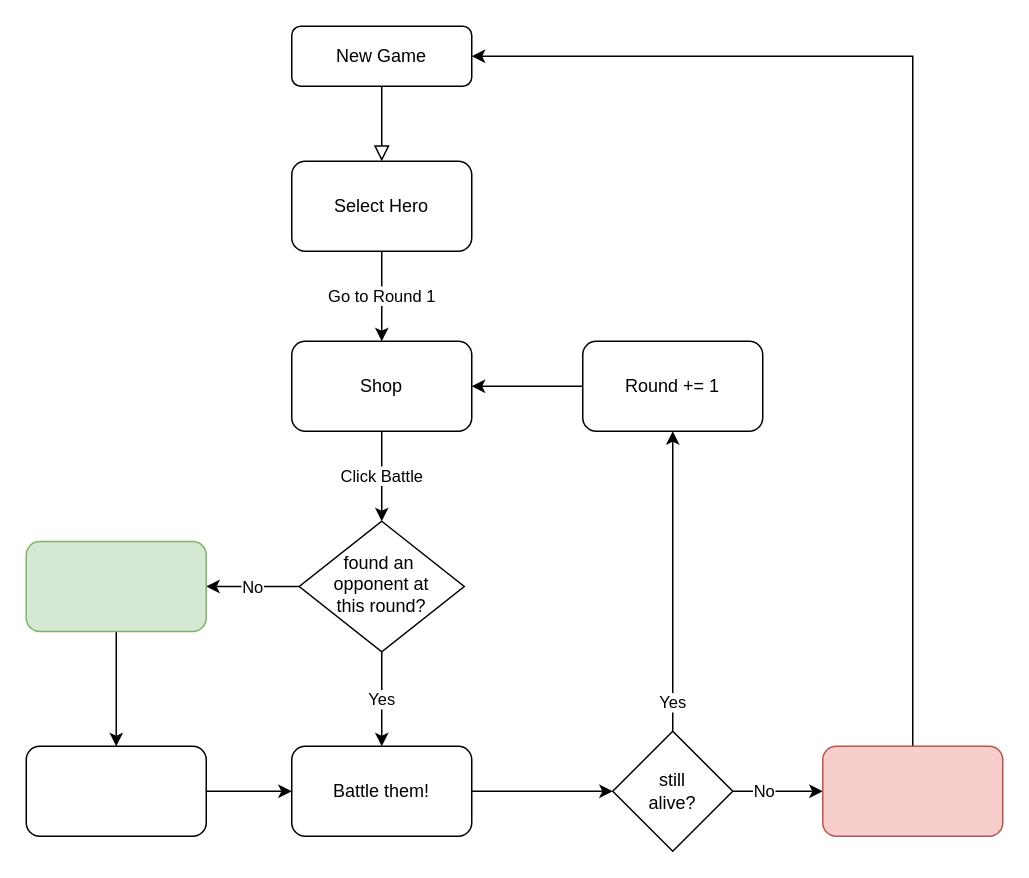
Some shapes in this 1029 by 878 pixel diagram are drawn without their labels. The centre of each missing label's shape, as x and y in pixels:
"Someone showed up and challenged me!" goes at point 115,790.
"You are the new End Boss" goes at point 115,586.
"You died :(" goes at point 912,790.
